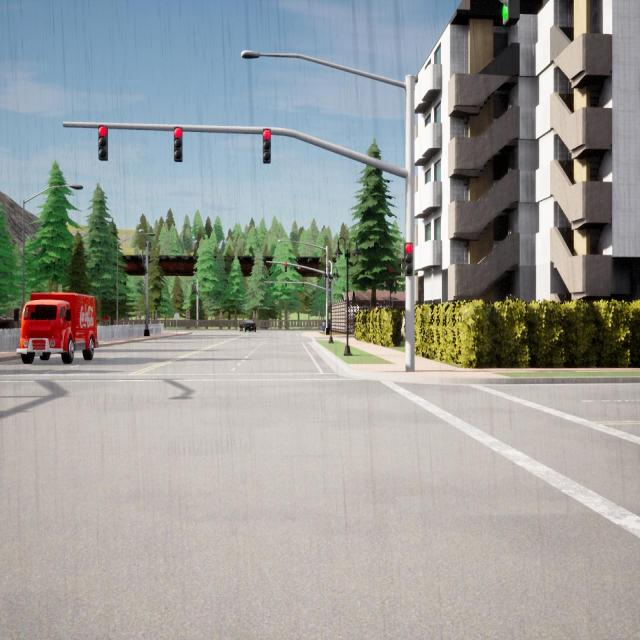Traffic_Signs: (174, 312, 180, 320)
Vehicle: (17, 293, 97, 363), (237, 319, 256, 332), (322, 319, 330, 331)
traffic_light: (502, 0, 520, 31), (404, 243, 414, 278), (97, 126, 107, 160), (174, 127, 183, 162), (263, 128, 271, 164), (284, 262, 287, 272), (301, 282, 304, 290), (192, 284, 194, 294), (271, 282, 273, 290), (285, 282, 287, 290), (194, 286, 196, 293), (198, 306, 200, 312)
